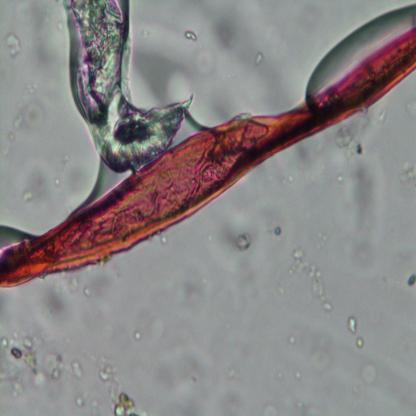Air bubble: (305, 3, 416, 92)
Background material: (334, 124, 378, 274), (0, 332, 86, 398), (159, 350, 241, 416), (39, 266, 116, 324), (132, 38, 193, 106), (93, 358, 144, 415), (288, 249, 333, 311), (219, 220, 256, 270), (23, 169, 62, 205), (10, 99, 47, 136), (177, 266, 202, 309), (211, 18, 240, 50), (193, 51, 217, 78), (346, 314, 362, 354), (4, 32, 26, 59), (398, 159, 416, 186), (362, 362, 376, 387), (376, 108, 390, 126), (250, 50, 262, 67), (185, 29, 198, 43), (406, 272, 416, 286), (294, 372, 304, 381), (288, 336, 297, 346), (136, 331, 141, 342)
Cellulose filter fibre: (62, 1, 190, 175)
Cotton: (0, 30, 416, 291)
